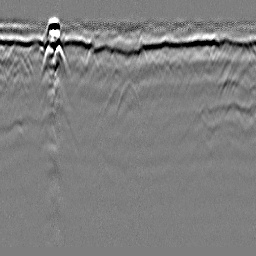cavity: (114, 78, 142, 121)
